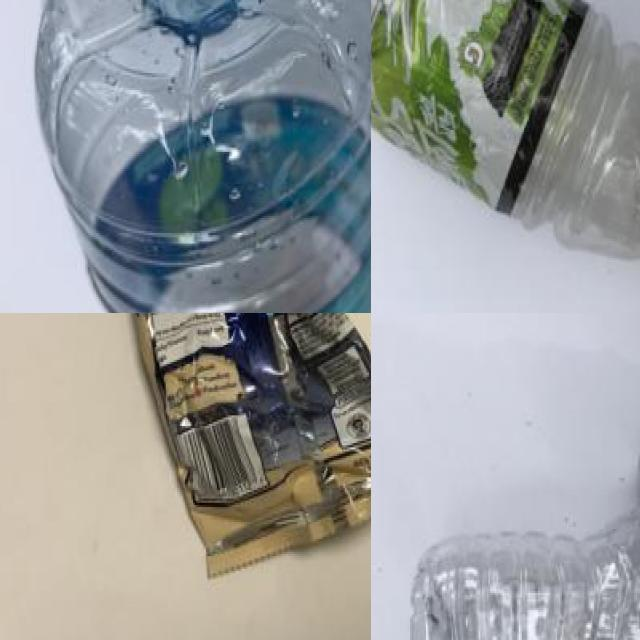plastic: (26, 0, 371, 313), (371, 0, 640, 297), (420, 458, 640, 640)
trash: (100, 313, 371, 580)
